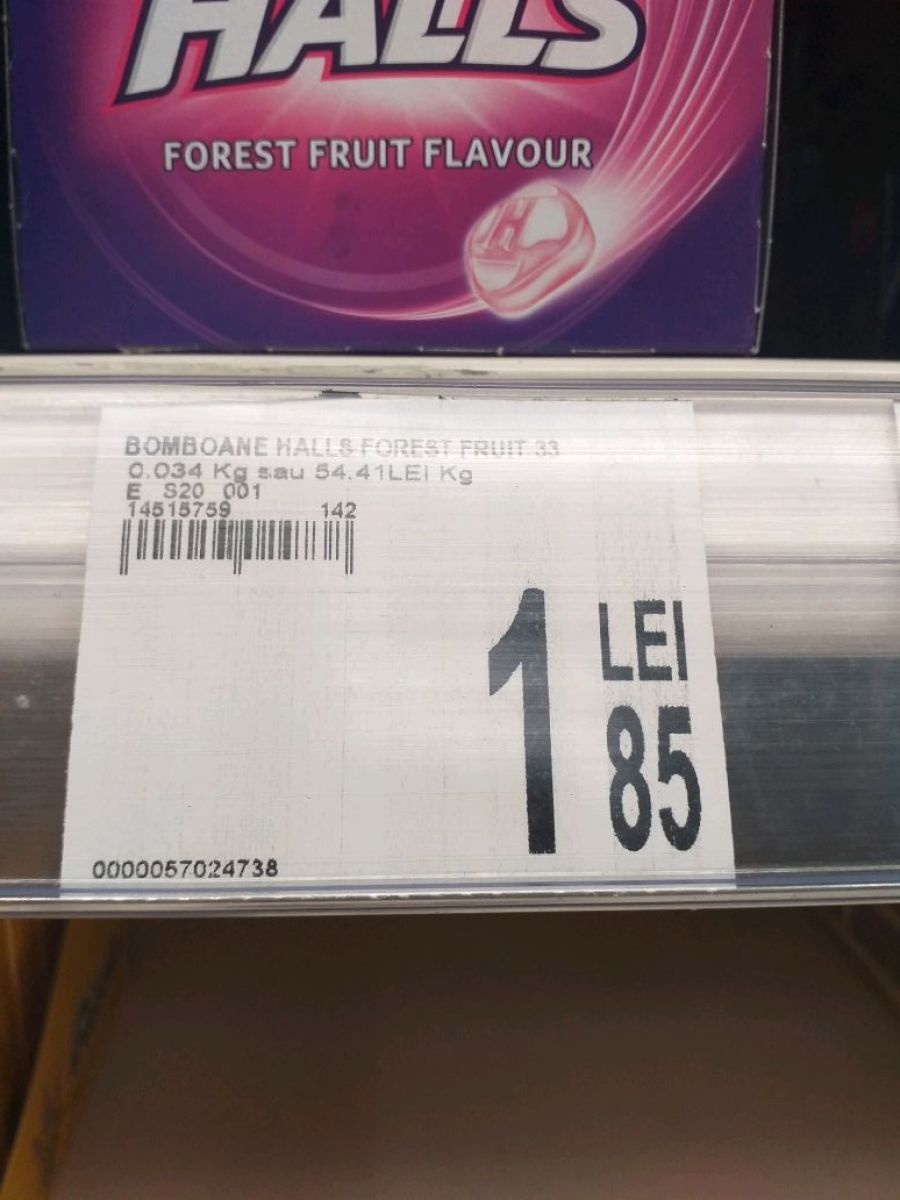price_bani: (593, 692, 710, 869)
price_lei: (479, 577, 579, 871)
price_tag: (30, 338, 776, 937)
product_id: (82, 850, 306, 883)
product_name: (115, 427, 575, 460)
